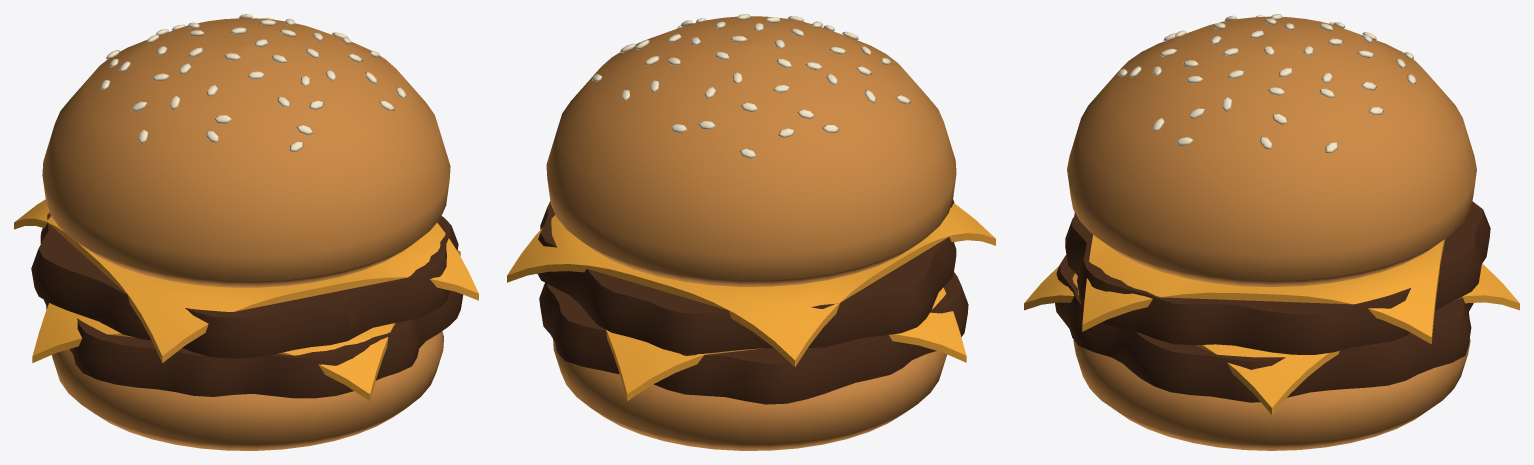
The model's file is smash-burger.glb.
3 views of the same model, side by side, from view 1: azimuth 30°, elevation 25°; view 2: azimuth 150°, elevation 25°; view 3: azimuth 270°, elevation 25° (orthographic).
Visible parts, largest first — view 1: Bottom bun, Patty 1, Cheddar 1, Sesame seeds; view 2: Bottom bun, Patty 1, Cheddar 1, Sesame seeds; view 3: Bottom bun, Patty 1, Cheddar 1, Sesame seeds.
Boxes of the visible parts, <box> form: Bottom bun: <box>42,18,450,450</box>; Patty 1: <box>31,213,463,398</box>; Cheddar 1: <box>14,199,478,400</box>; Sesame seeds: <box>100,14,406,151</box>; Bottom bun: <box>546,16,956,450</box>; Patty 1: <box>537,199,968,404</box>; Cheddar 1: <box>507,203,995,400</box>; Sesame seeds: <box>592,14,910,158</box>; Bottom bun: <box>1067,16,1476,450</box>; Patty 1: <box>1055,201,1490,402</box>; Cheddar 1: <box>1024,235,1519,414</box>; Sesame seeds: <box>1118,14,1415,152</box>.
Size of the model in its own units: 0.1386 by 0.1035 by 0.1386.
